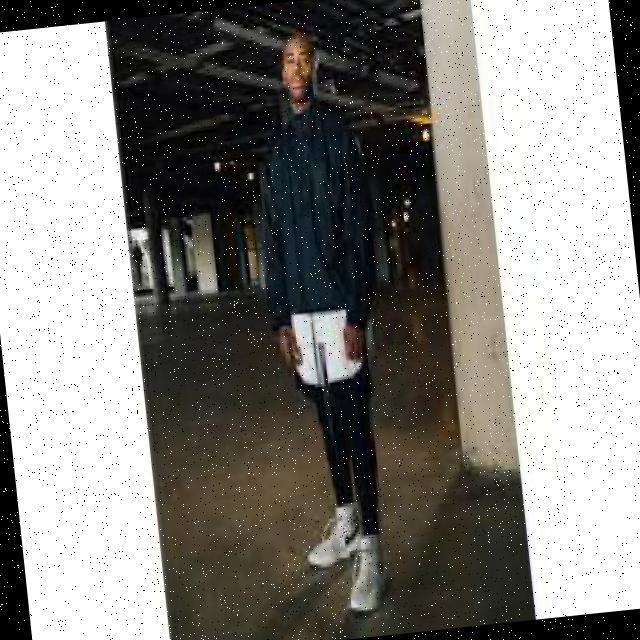Nike: (336, 518, 358, 545)
